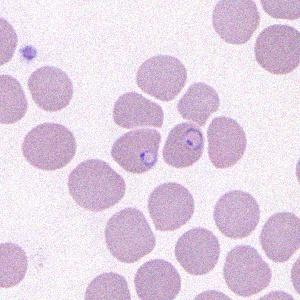Infected: (112, 129, 163, 174), (162, 122, 204, 168)
Uninfected: (105, 206, 157, 264), (66, 161, 125, 212), (21, 123, 75, 170), (137, 52, 187, 101), (222, 246, 270, 297), (252, 24, 300, 75), (214, 190, 262, 238), (175, 227, 220, 278), (147, 183, 194, 231), (208, 113, 247, 170), (27, 66, 74, 113), (111, 90, 165, 130), (133, 256, 182, 300), (213, 0, 258, 46), (261, 212, 300, 261), (178, 81, 221, 122), (85, 271, 133, 300), (0, 75, 27, 126), (0, 241, 27, 290)
